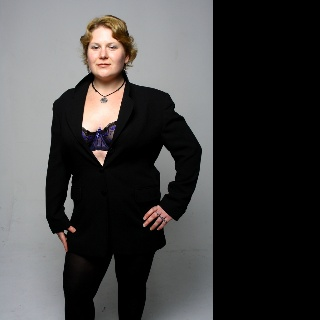without_mask: (76, 14, 138, 78)
